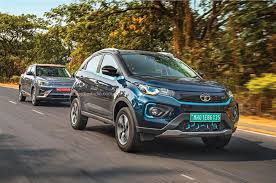Tata Nexon: (67, 46, 240, 155)
